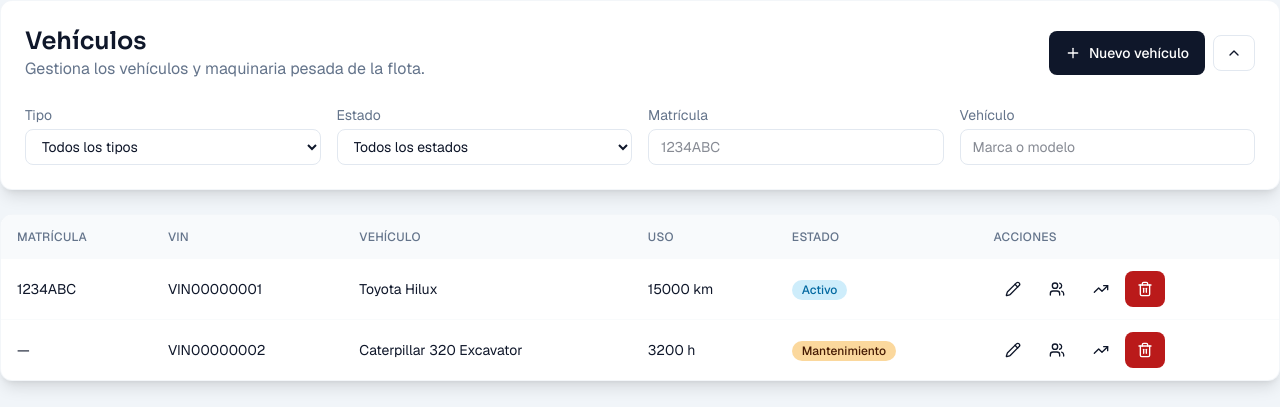
Test: Vehicles › narrows the vehicle list with the category filter
Expected: the text "Toyota Hilux" is shown, [343, 259, 632, 320]
Select "Maquinaria pesada" in the dropdown named "filtrar por tipo": (173, 147) [25, 129, 320, 165]
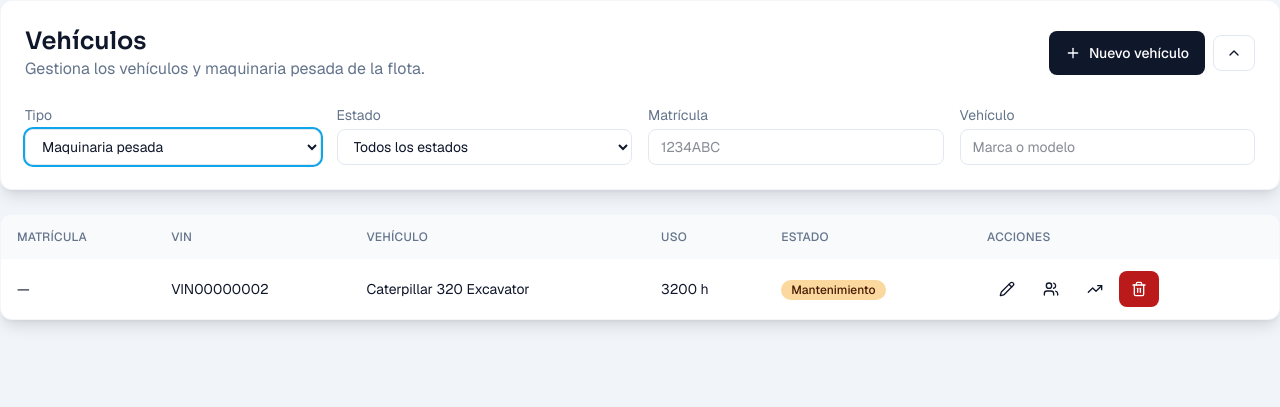
Now the text "Toyota Hilux" is gone
